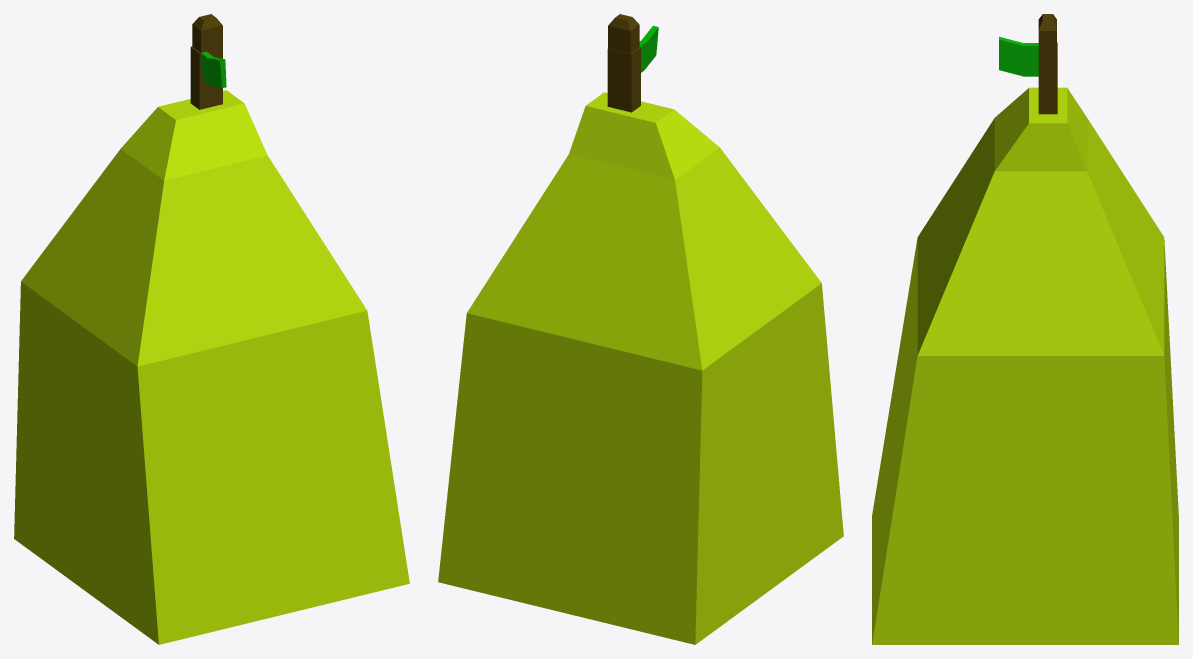
File: pera-3dmodel.dae
The picture shows the model from 3 angles, left to right: view 1: azimuth 30°, elevation 25°; view 2: azimuth 150°, elevation 25°; view 3: azimuth 270°, elevation 25°; orthographic projection. The views are drawn at different scales.
Visible parts, largest first — view 1: Cube; view 2: Cube; view 3: Cube.
Boxes of the visible parts, <box> form: Cube: <box>14,14,409,644</box>; Cube: <box>438,14,843,644</box>; Cube: <box>872,14,1178,644</box>.
Bounding box in the file's own units: 2 × 2 × 4.07.
